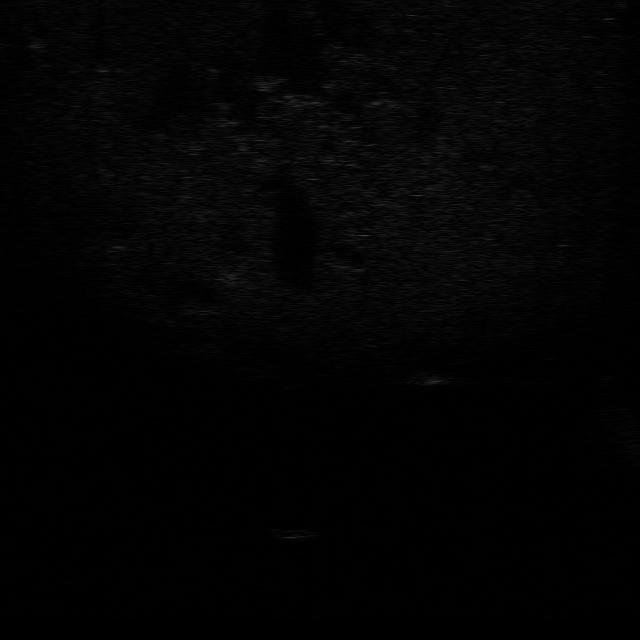cube: (265, 525, 320, 541)
square cage: (404, 367, 448, 385)
